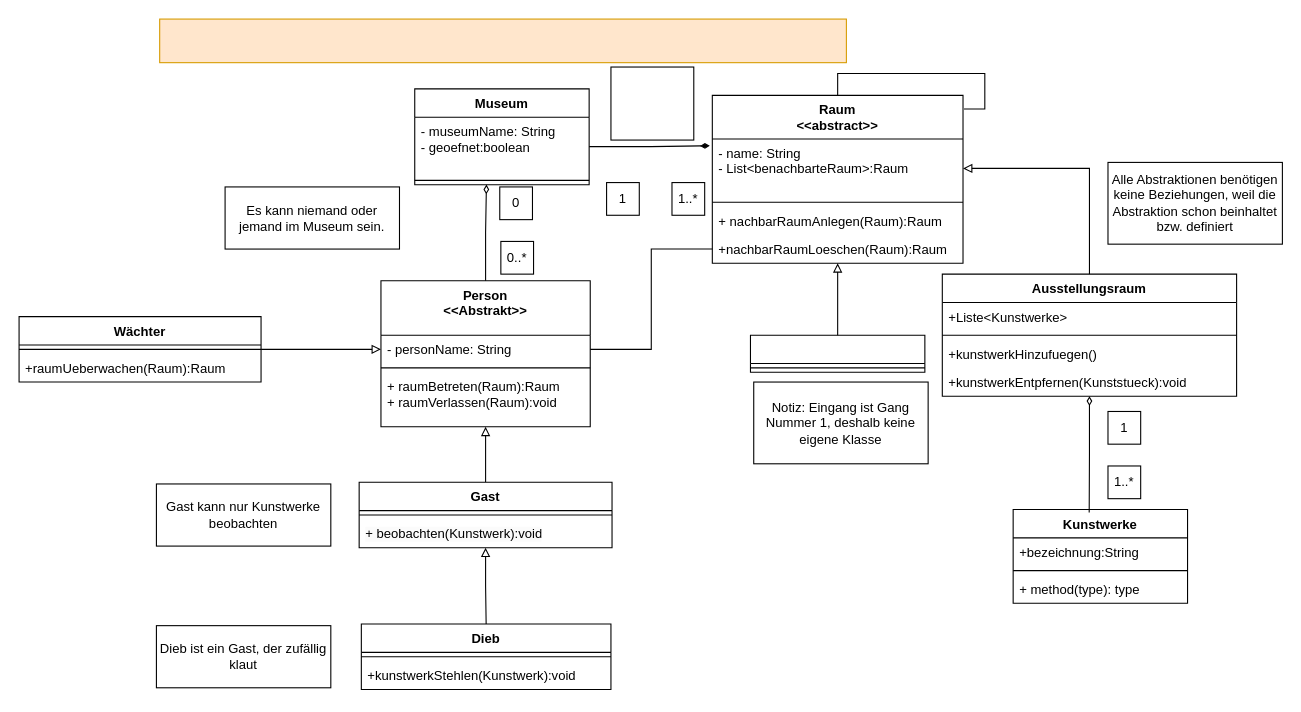
The diagram is 1301 pixels wide and 712 high, and some of its shapes have lost their labels. Each missing label, with the centre of its shape:
"Ein Museum hat mehrere Räume, mindest einen" goes at point (652, 103).
"Gang" goes at point (837, 353).
"Museum Beispiel" goes at point (502, 40).
